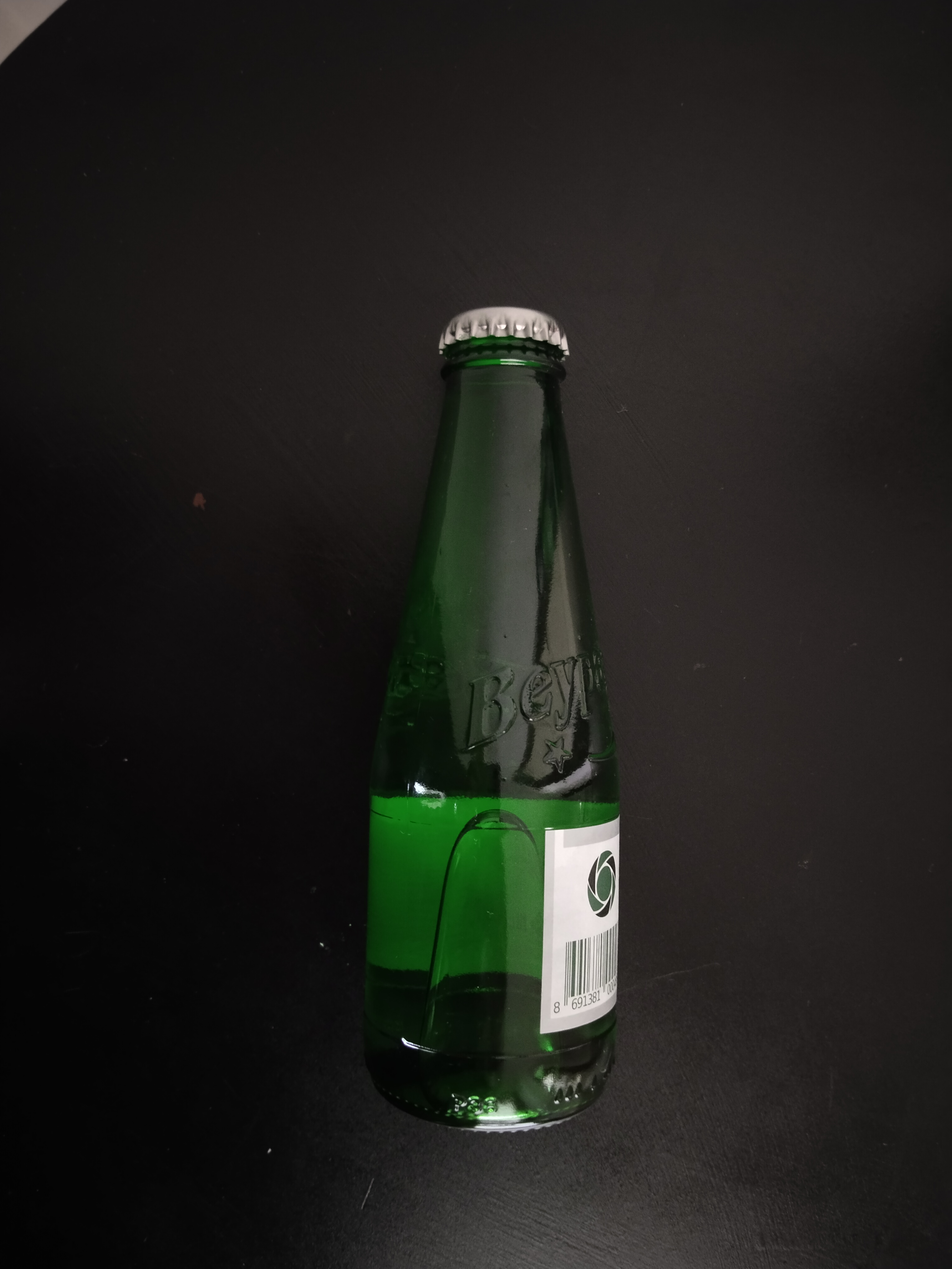beypazari_maden_suyu: (363, 305, 618, 1126)
